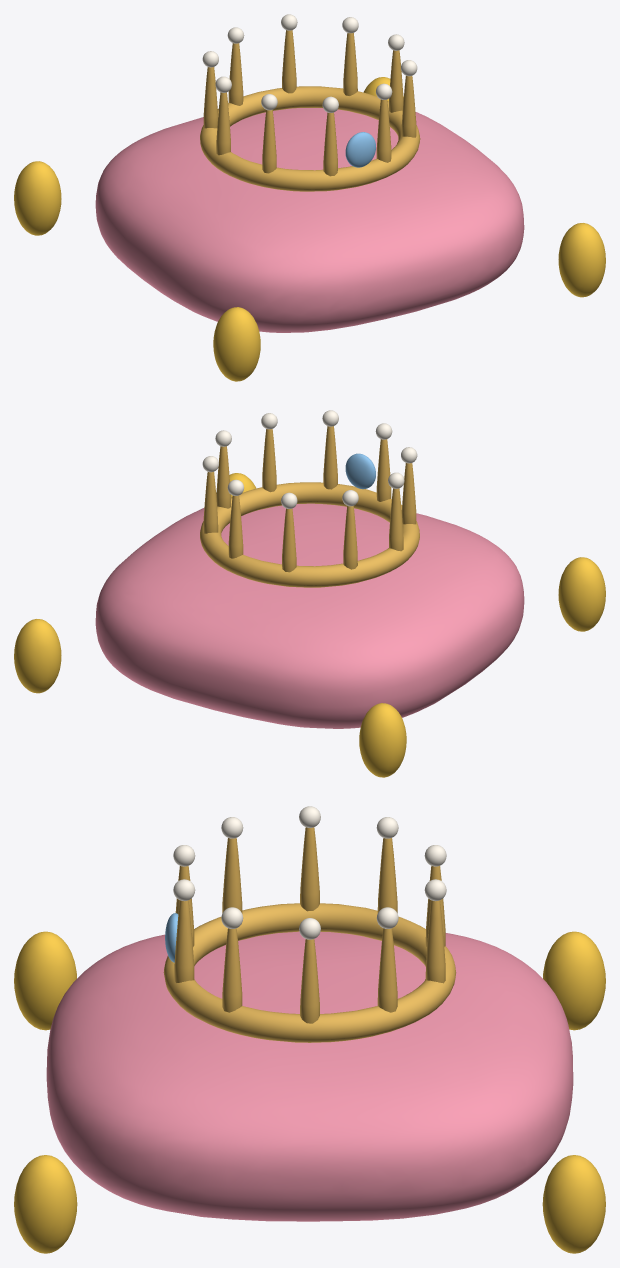
Rendered from deco_tiara_cojin.glb.
3 views of the same model, one above another, from view 1: azimuth 30°, elevation 25°; view 2: azimuth 150°, elevation 25°; view 3: azimuth 270°, elevation 25° (orthographic). The views are drawn at different scales.
Visible parts, largest first — view 1: cojín tiara.001, tiara aro.001, borla -11.001, borla -1-1.001, borla 1-1.001, tiara joya.001, tiara punta 8.001, tiara punta 6.001, tiara punta 9.001, tiara punta 7.001, tiara punta 2.001, tiara punta 5.001 (+4 smaller); view 2: cojín tiara.001, tiara aro.001, borla -1-1.001, borla -11.001, borla 11.001, tiara joya.001, tiara punta 2.001, tiara punta 3.001, tiara punta 4.001, tiara punta 8.001, tiara punta 1.001, tiara punta 9.001 (+4 smaller); view 3: cojín tiara.001, tiara aro.001, borla 1-1.001, borla 11.001, borla -1-1.001, borla -11.001, tiara punta 0.001, tiara punta 9.001, tiara punta 1.001, tiara punta 8.001, tiara punta 5.001, tiara punta 2.001 (+2 smaller).
Part boxes in pixels (bbox=[...]): cojín tiara.001: bbox=[95, 108, 524, 332]; tiara aro.001: bbox=[200, 86, 420, 191]; borla -11.001: bbox=[14, 161, 61, 235]; borla -1-1.001: bbox=[213, 307, 260, 381]; borla 1-1.001: bbox=[558, 223, 605, 297]; tiara joya.001: bbox=[345, 132, 375, 167]; tiara punta 8.001: bbox=[376, 99, 391, 162]; tiara punta 6.001: bbox=[262, 110, 276, 173]; tiara punta 9.001: bbox=[401, 76, 416, 137]; tiara punta 7.001: bbox=[323, 112, 337, 176]; tiara punta 2.001: bbox=[282, 30, 296, 93]; tiara punta 5.001: bbox=[216, 92, 230, 155]; cojín tiara.001: bbox=[95, 503, 524, 728]; tiara aro.001: bbox=[200, 482, 419, 587]; borla -1-1.001: bbox=[558, 557, 605, 631]; borla -11.001: bbox=[359, 703, 406, 777]; borla 11.001: bbox=[14, 619, 61, 693]; tiara joya.001: bbox=[345, 453, 375, 489]; tiara punta 2.001: bbox=[228, 495, 243, 558]; tiara punta 3.001: bbox=[282, 508, 296, 572]; tiara punta 4.001: bbox=[343, 506, 357, 569]; tiara punta 8.001: bbox=[323, 426, 337, 489]; tiara punta 1.001: bbox=[203, 472, 218, 533]; tiara punta 9.001: bbox=[262, 429, 276, 492]; cojín tiara.001: bbox=[46, 931, 573, 1221]; tiara aro.001: bbox=[163, 903, 456, 1042]; borla 1-1.001: bbox=[14, 1155, 77, 1253]; borla 11.001: bbox=[542, 1155, 605, 1253]; borla -1-1.001: bbox=[14, 931, 76, 1030]; borla -11.001: bbox=[543, 931, 605, 1030]; tiara punta 0.001: bbox=[300, 939, 319, 1023]; tiara punta 9.001: bbox=[222, 928, 242, 1012]; tiara punta 1.001: bbox=[377, 928, 397, 1012]; tiara punta 8.001: bbox=[174, 900, 194, 982]; tiara punta 5.001: bbox=[300, 827, 319, 911]; tiara punta 2.001: bbox=[425, 900, 445, 983].
Bounding box in the file's own units: 0.2687 × 0.1448 × 0.2687.
